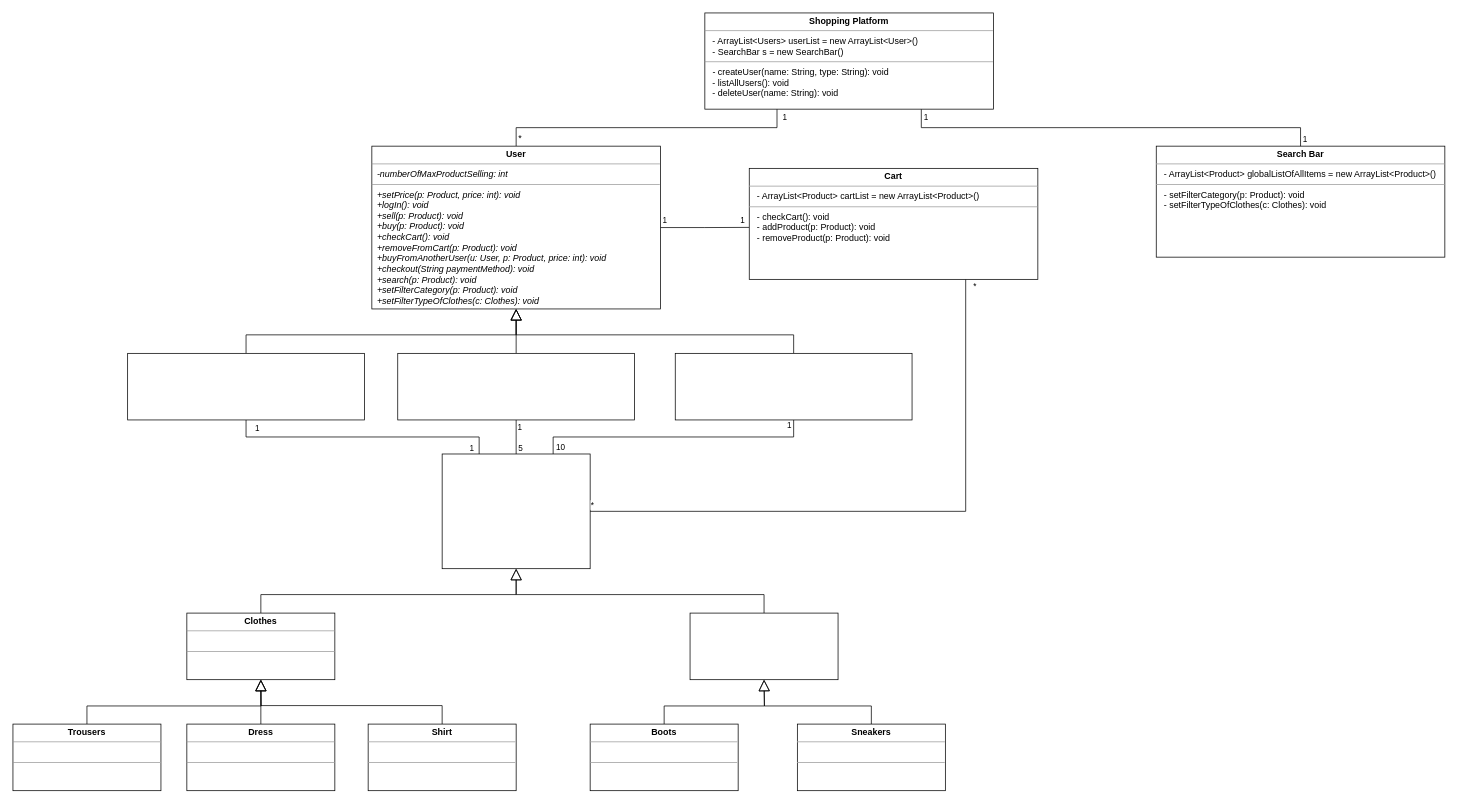
Image size: 1458x804. Some labels were removed from this diagram. Each missing label, with the centre of its shape:
Gold Customer -numberOfMaxProductSelling: int = 5: [516,386]
Normal Customer -numberOfMaxProductSelling: int = 1: [245,386]
Platinum Customer -numberOfMaxProductSelling: int = 10: [793,386]
Product -name: String -color: String -size: int -prize: int: [515,511]
Shoes: [763,646]
